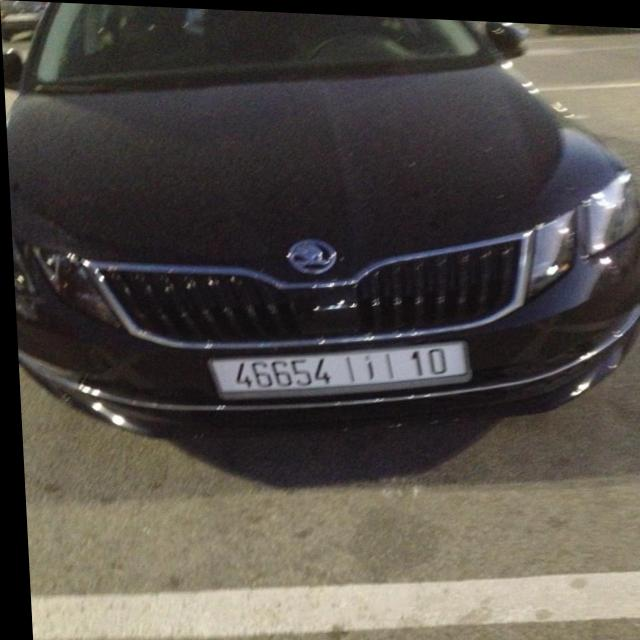License-Plate: (206, 337, 468, 397)
